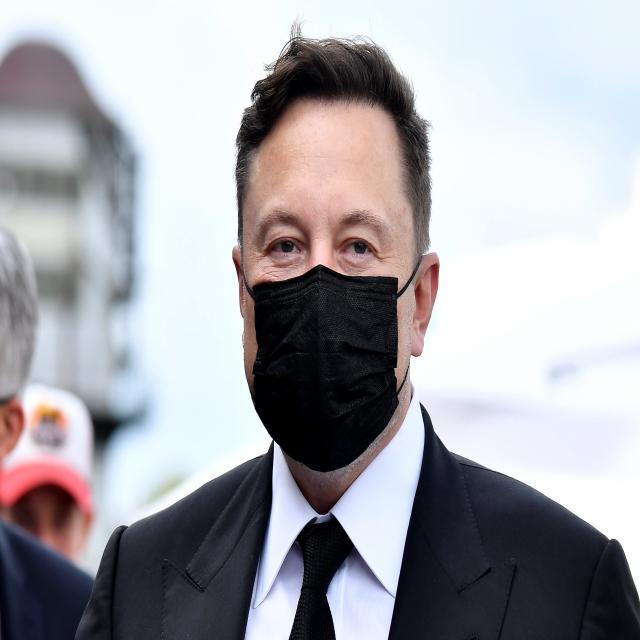Nonhelmet: (222, 24, 448, 474)
